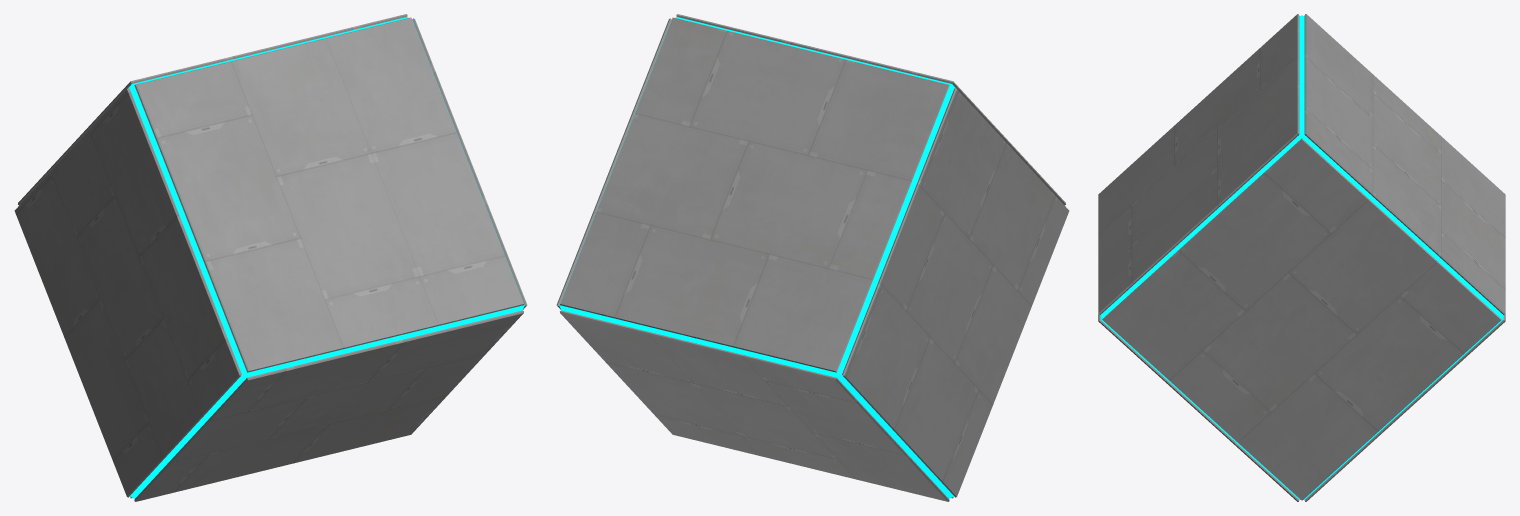
The model's file is productDisplayExample.glb.
3 renders of one model, left to right at view 1: azimuth 30°, elevation 25°; view 2: azimuth 150°, elevation 25°; view 3: azimuth 270°, elevation 25°, orthographic. The views are drawn at different scales.
Visible parts, largest first — view 1: Cube; view 2: Cube; view 3: Cube.
Part boxes in pixels (bbox=[...]): Cube: bbox=[14, 14, 527, 501]; Cube: bbox=[556, 14, 1069, 501]; Cube: bbox=[1098, 14, 1505, 501].
Size of what is drawn, in the model's own units: 0.5 by 0.6919 by 0.6919.
2 materials, 1 textured.
